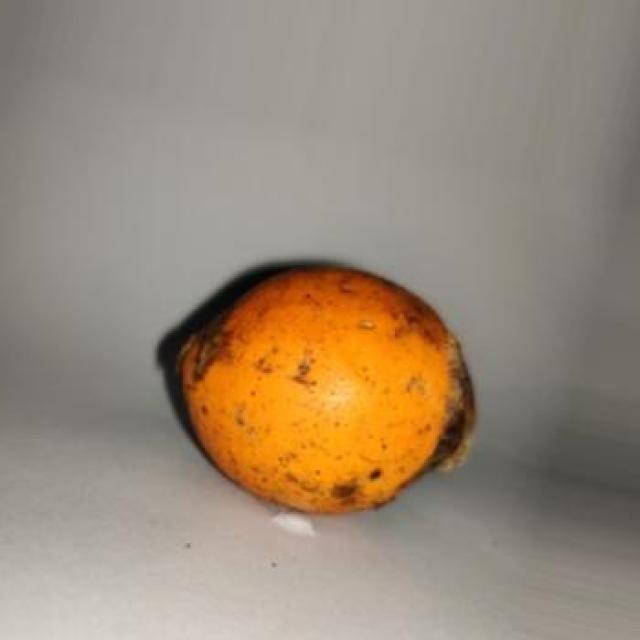good: (163, 263, 477, 517)
